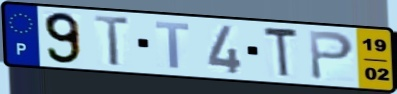4: (206, 23, 245, 75)
9: (41, 10, 84, 66)
P: (307, 29, 357, 82)
T: (92, 13, 132, 68), (262, 25, 301, 80), (153, 20, 193, 71)
